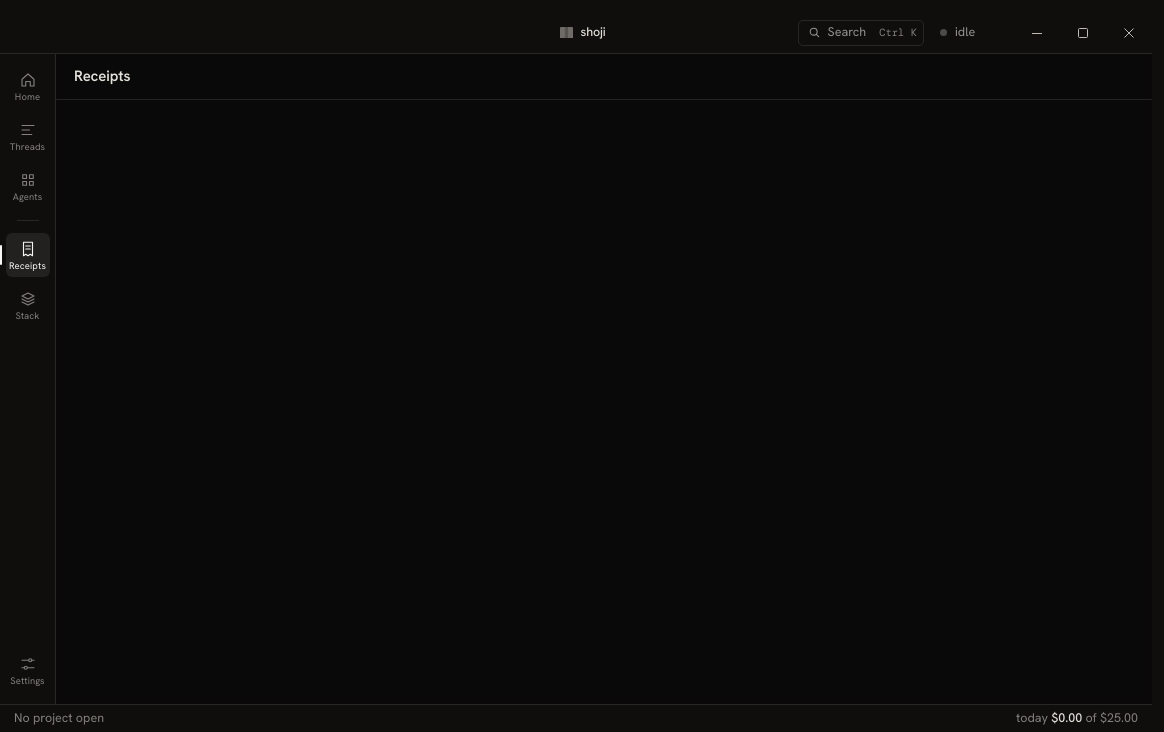
Test: the Receipts view › says when a thread never reached a model
Click the button "Receipts": point(28, 255) [6,233,50,277]
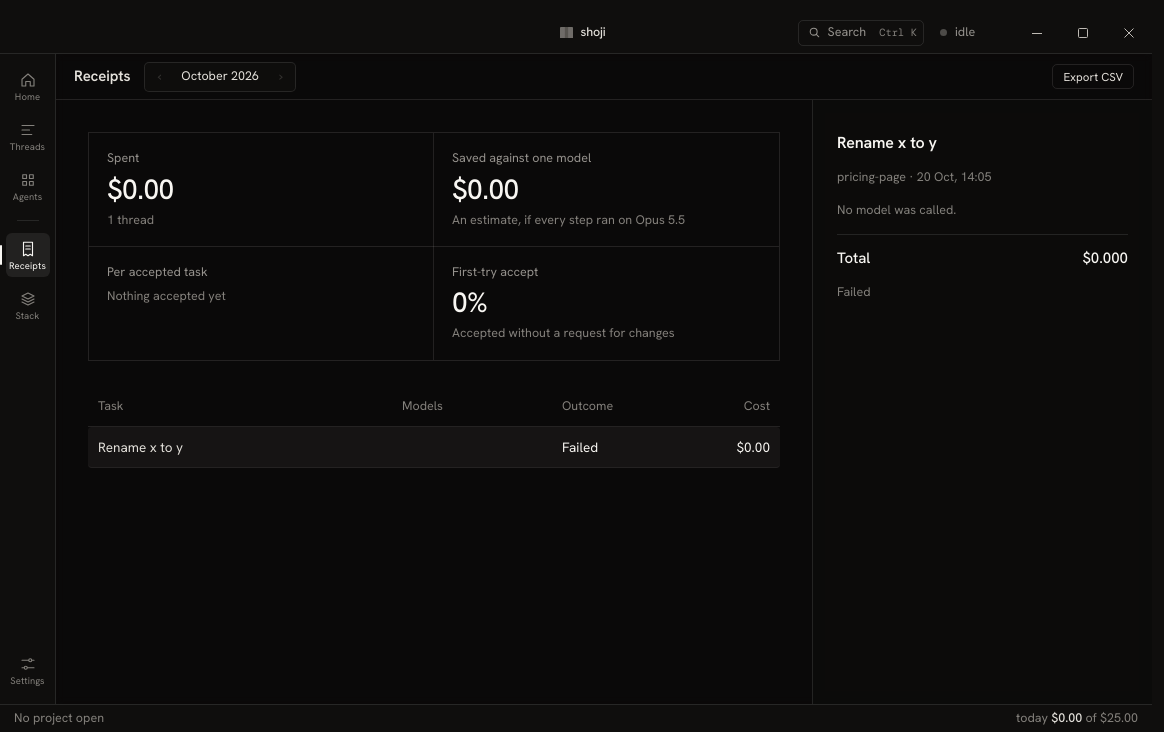
Result: the text "No model was called." is shown at [837,201,956,218]
